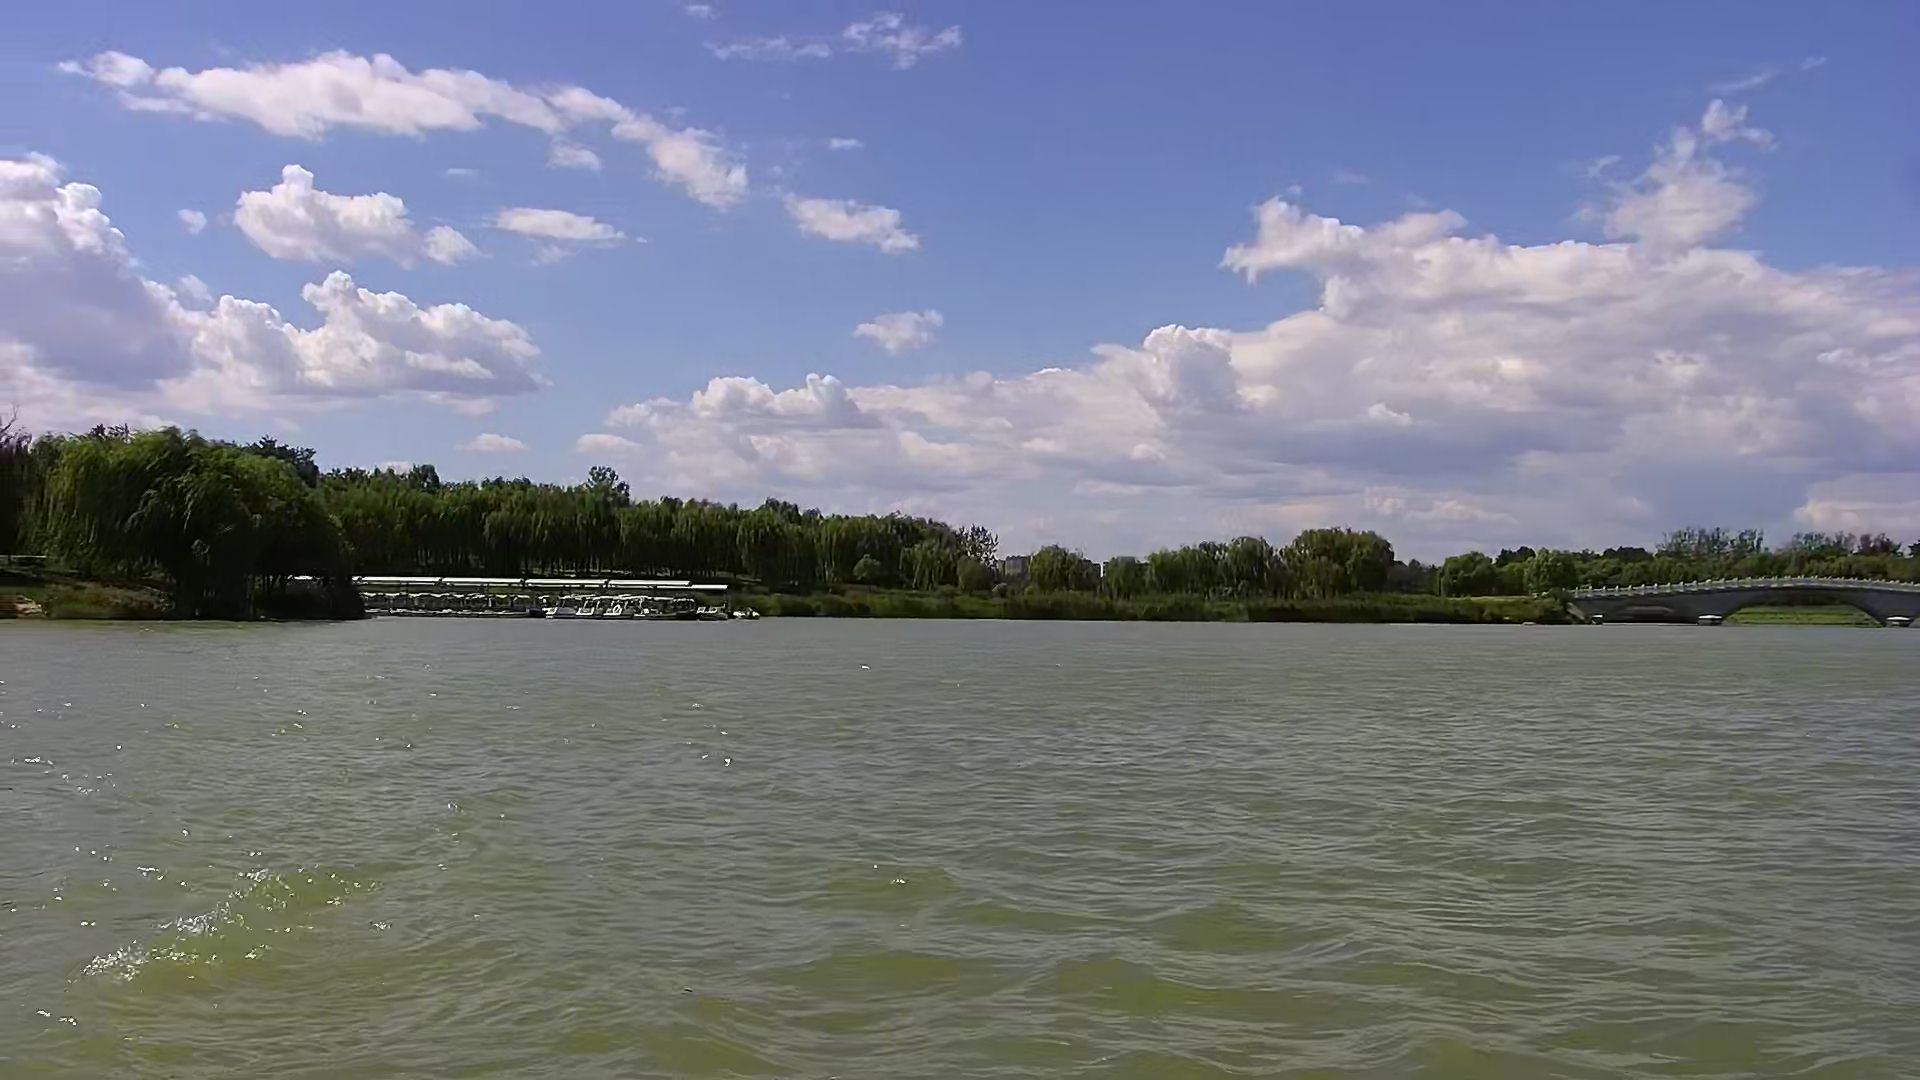bridge: (1564, 572, 1920, 620)
harbor: (349, 578, 753, 621)
